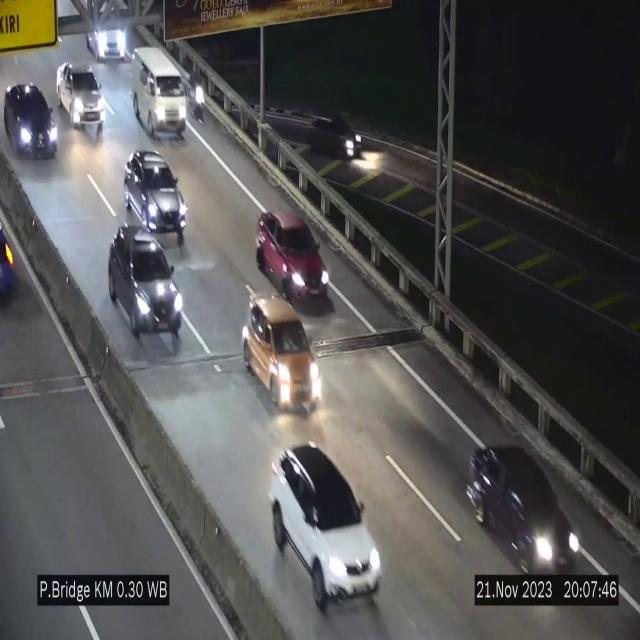Car: (270, 444, 380, 614), (459, 440, 581, 569), (108, 224, 184, 360), (243, 290, 323, 416), (256, 210, 334, 308), (124, 150, 186, 243), (132, 46, 186, 139), (3, 74, 53, 164), (57, 63, 104, 141), (306, 108, 368, 167), (81, 4, 127, 62)
Motorcycle: (186, 65, 211, 131)
